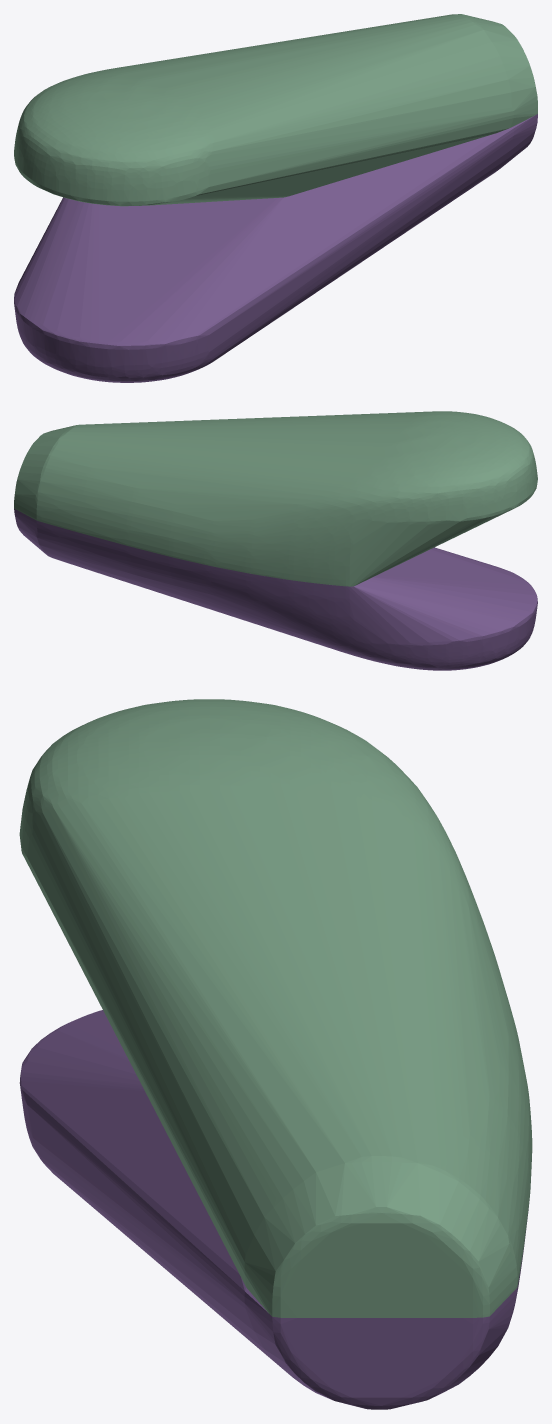
File: arm_l4.obj
3 renders of one model, top to bottom at view 1: azimuth 30°, elevation 25°; view 2: azimuth 150°, elevation 25°; view 3: azimuth 270°, elevation 25°, orthographic. The views are drawn at different scales.
Parts seen in each view (by area): view 1: geometry_0, geometry_1; view 2: geometry_0, geometry_1; view 3: geometry_0, geometry_1.
Boxes of the visible parts, left/top/right/bottom form: geometry_0: left=14, top=14, right=537, bottom=206; geometry_1: left=14, top=114, right=537, bottom=382; geometry_0: left=14, top=411, right=537, bottom=586; geometry_1: left=14, top=508, right=537, bottom=670; geometry_0: left=19, top=699, right=532, bottom=1317; geometry_1: left=19, top=1010, right=528, bottom=1409.
Size of the model in its own units: 0.2395 by 0.1105 by 0.1201.
